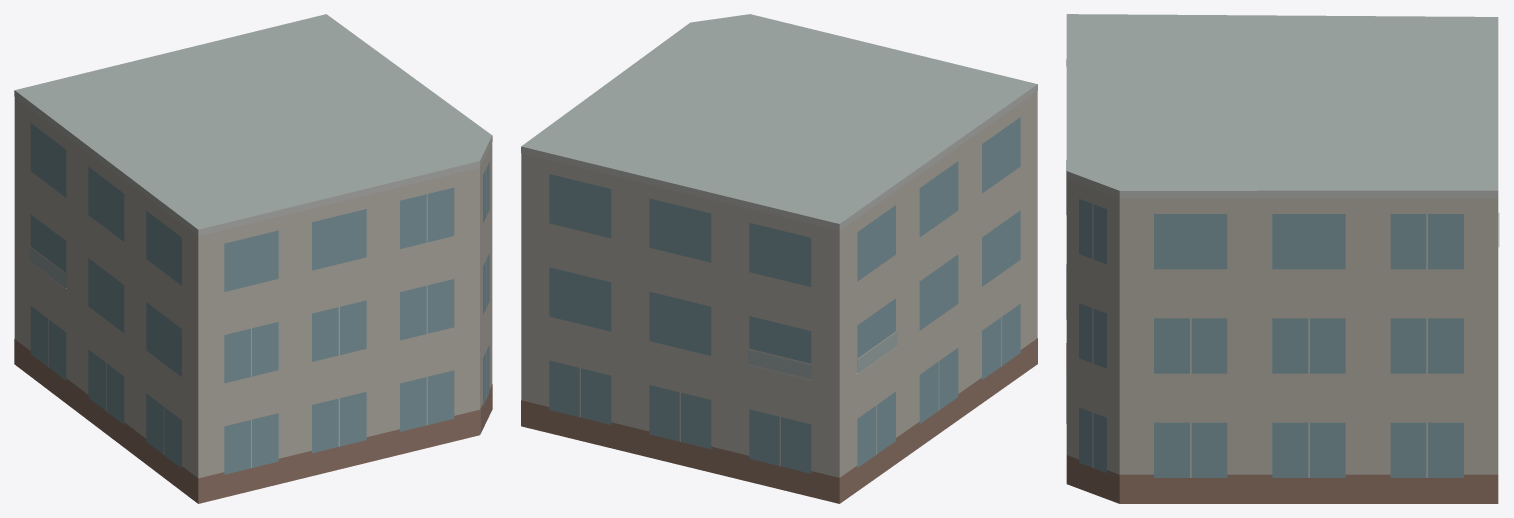
The model's file is survey-upis-32493666.glb.
3 renders of one model, left to right at view 1: azimuth 30°, elevation 25°; view 2: azimuth 150°, elevation 25°; view 3: azimuth 270°, elevation 25°, orthographic. The views are drawn at different scales.
Parts seen in each view (by area): view 1: survey-upis-32493666.tmp; view 2: survey-upis-32493666.tmp; view 3: survey-upis-32493666.tmp.
Part boxes in pixels (x1,y1,x2,y2): survey-upis-32493666.tmp: (14,14,492,503); survey-upis-32493666.tmp: (521,14,1037,503); survey-upis-32493666.tmp: (1066,14,1499,503).
Bounding box in the file's own units: 12.26 × 10.11 × 12.68.
